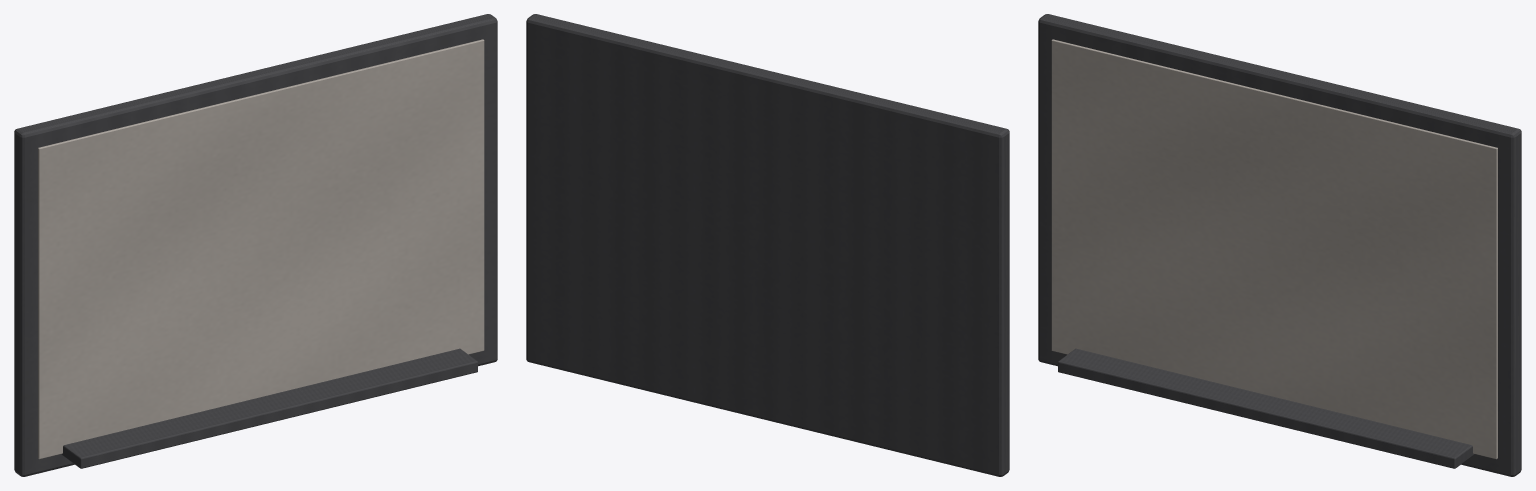
The model's file is planning_board.glb.
The picture shows the model from 3 angles, left to right: view 1: azimuth 30°, elevation 25°; view 2: azimuth 150°, elevation 25°; view 3: azimuth 330°, elevation 25°; orthographic projection.
Parts seen in each view (by area): view 1: writing_surface, frame, tray; view 2: frame; view 3: writing_surface, frame, tray.
Part boxes in pixels (bbox=[...]): writing_surface: bbox=[38, 39, 484, 459]; frame: bbox=[14, 14, 497, 476]; tray: bbox=[61, 348, 477, 468]; frame: bbox=[526, 14, 1009, 476]; writing_surface: bbox=[1051, 39, 1497, 459]; frame: bbox=[1038, 14, 1521, 476]; tray: bbox=[1058, 348, 1474, 468].
Bounding box in the file's own units: 1.8 × 1.24 × 0.185.
2 materials, 2 textured.
